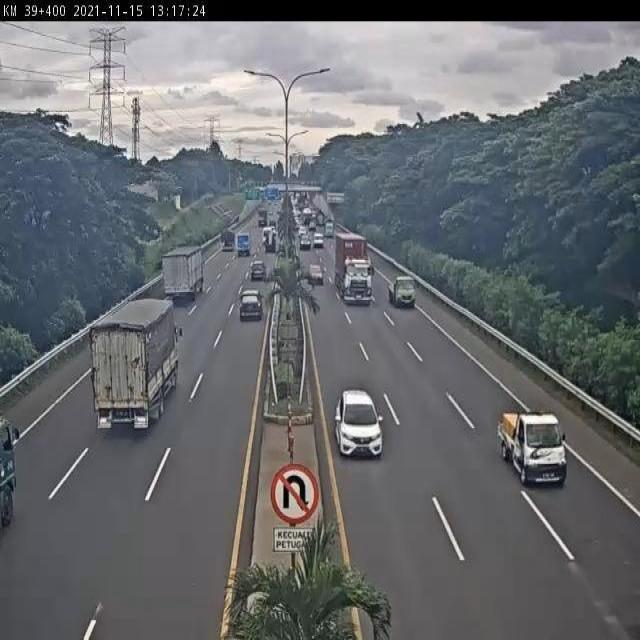Car: (334, 387, 383, 457), (238, 288, 264, 322), (308, 264, 326, 286), (251, 260, 266, 279), (299, 234, 311, 248), (297, 226, 307, 238)
Truck: (86, 296, 184, 435), (496, 407, 570, 486), (335, 231, 374, 306), (0, 408, 20, 539), (161, 244, 204, 298), (387, 272, 417, 308), (236, 232, 251, 259), (322, 216, 337, 240), (220, 230, 235, 252), (263, 234, 275, 254), (257, 209, 269, 226), (317, 209, 325, 227)
